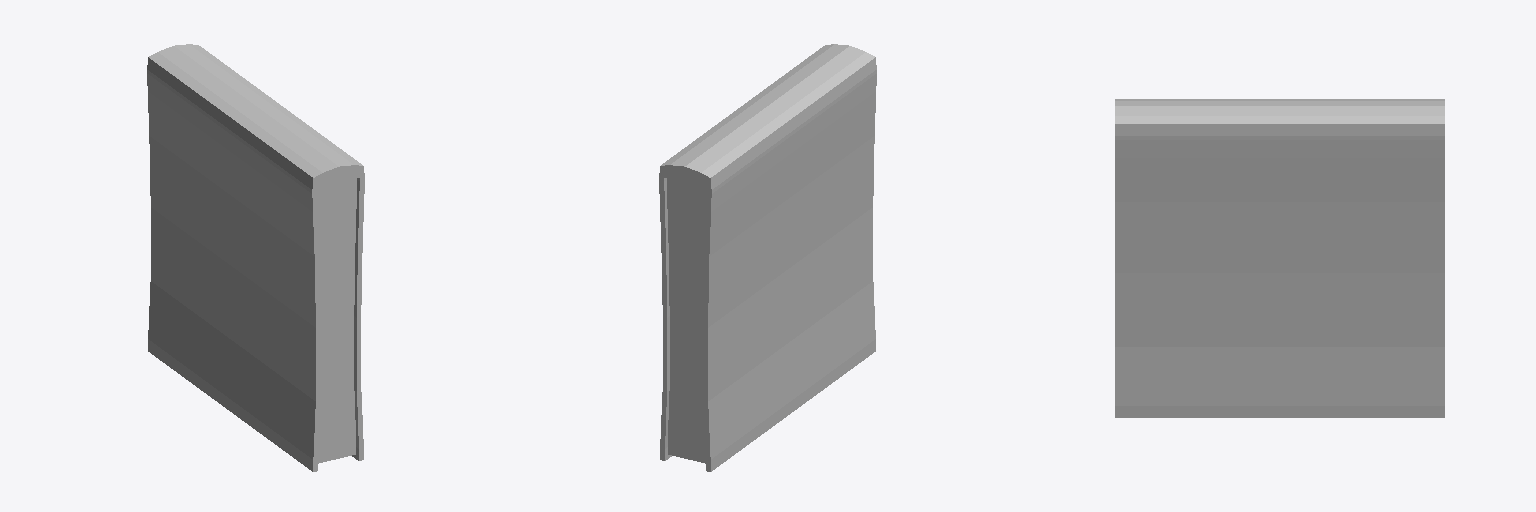
Rendered from tinker.obj.
3 renders of one model, left to right at view 1: azimuth 30°, elevation 25°; view 2: azimuth 150°, elevation 25°; view 3: azimuth 270°, elevation 25°, orthographic.
Visible parts, largest first — view 1: obj_0.026; view 2: obj_0.026; view 3: obj_0.026.
Part boxes in pixels (x1,y1,x2,y2): obj_0.026: (147, 44, 364, 471); obj_0.026: (659, 44, 876, 471); obj_0.026: (1115, 99, 1444, 417).
Size of the model in its own units: 2.75 by 15 by 15.